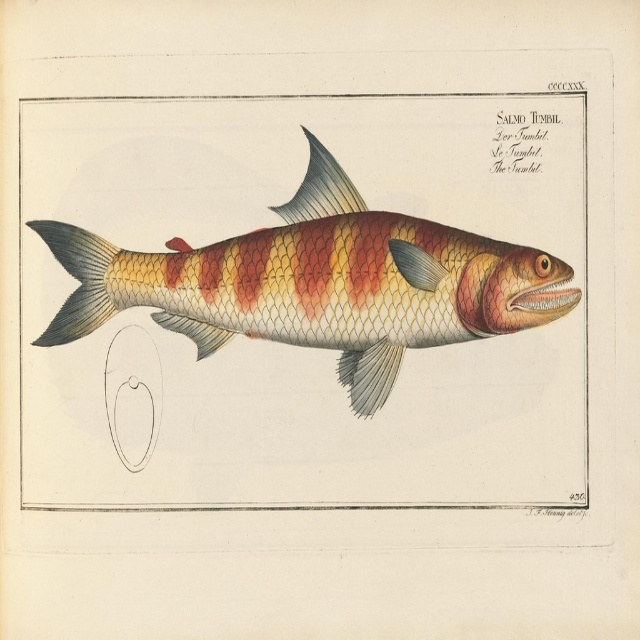Fish: (46, 119, 586, 418)
